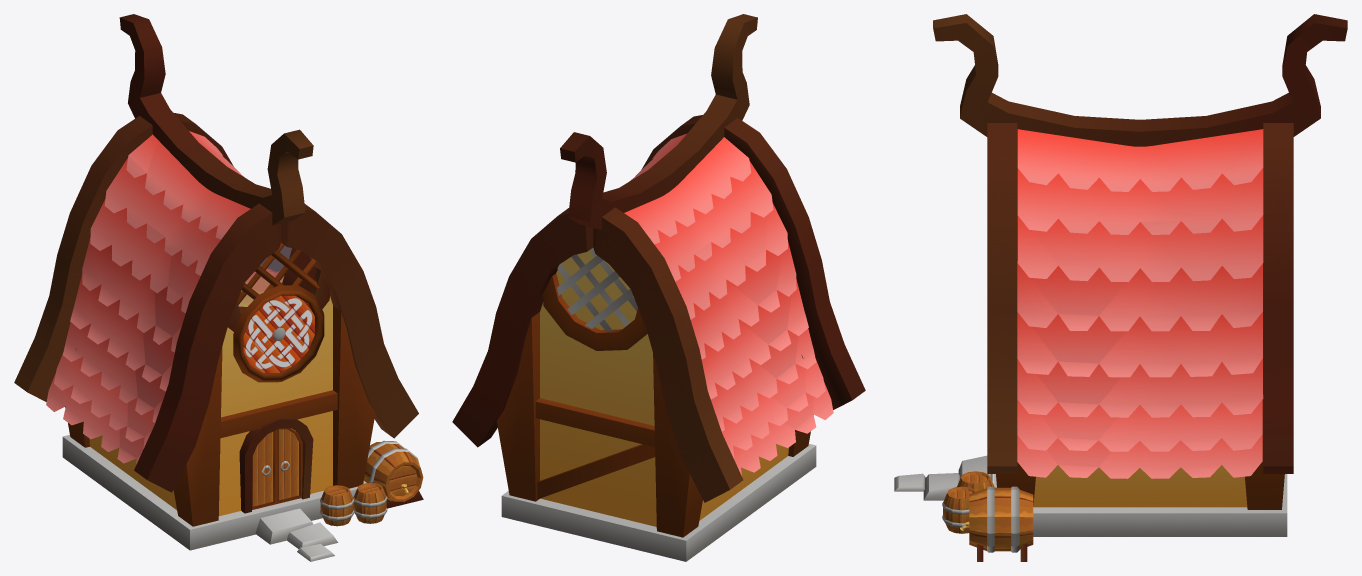
Rendered from VikingHouse_01_XXL.fbx.
The picture shows the model from 3 angles, left to right: view 1: azimuth 30°, elevation 25°; view 2: azimuth 150°, elevation 25°; view 3: azimuth 270°, elevation 25°; orthographic projection. The views are drawn at different scales.
Parts seen in each view (by area): view 1: VikingHouse_01_XXL; view 2: VikingHouse_01_XXL; view 3: VikingHouse_01_XXL.
Part boxes in pixels (x1,y1,x2,y2): VikingHouse_01_XXL: [14, 14, 423, 561]; VikingHouse_01_XXL: [452, 14, 865, 561]; VikingHouse_01_XXL: [894, 14, 1347, 561].
Size of the model in its own units: 278 by 392 by 344.
1 material, 1 textured.
